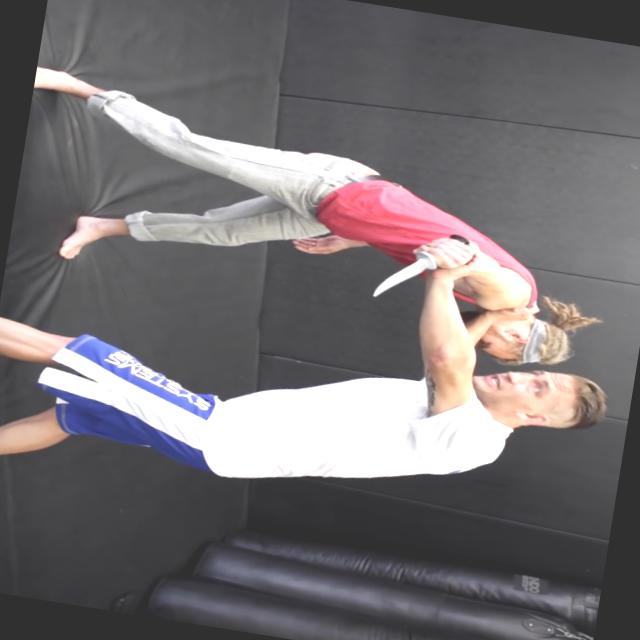knife: (364, 218, 478, 314)
